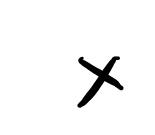mult: (78, 55, 123, 108)
